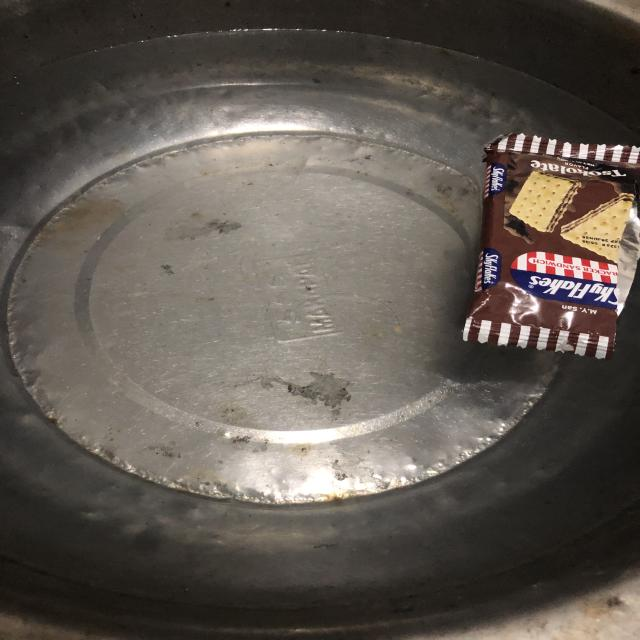Plastic Wrapper: (463, 133, 640, 359)
